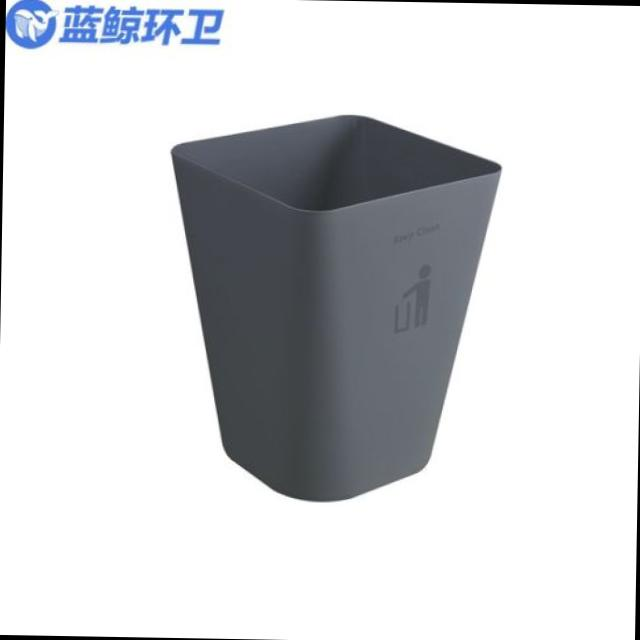dustbin: (160, 102, 514, 512)
